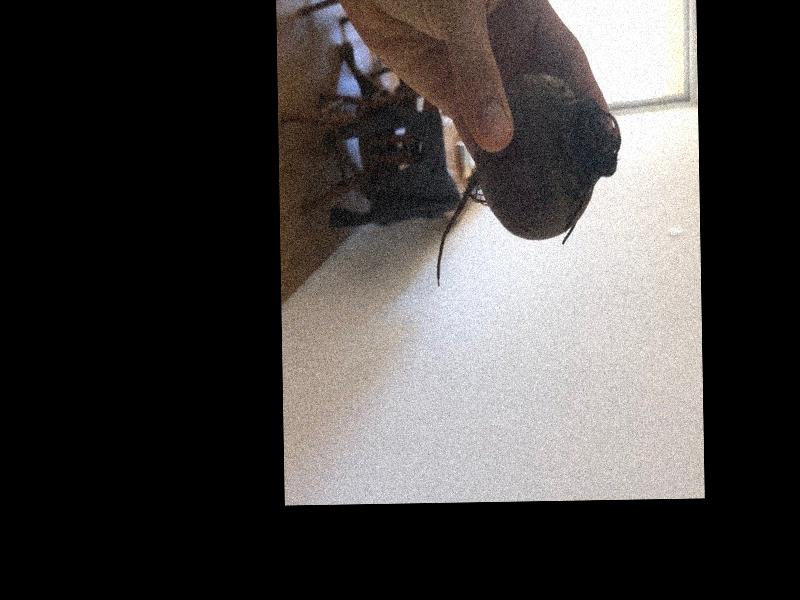Beet: (433, 72, 623, 286)
